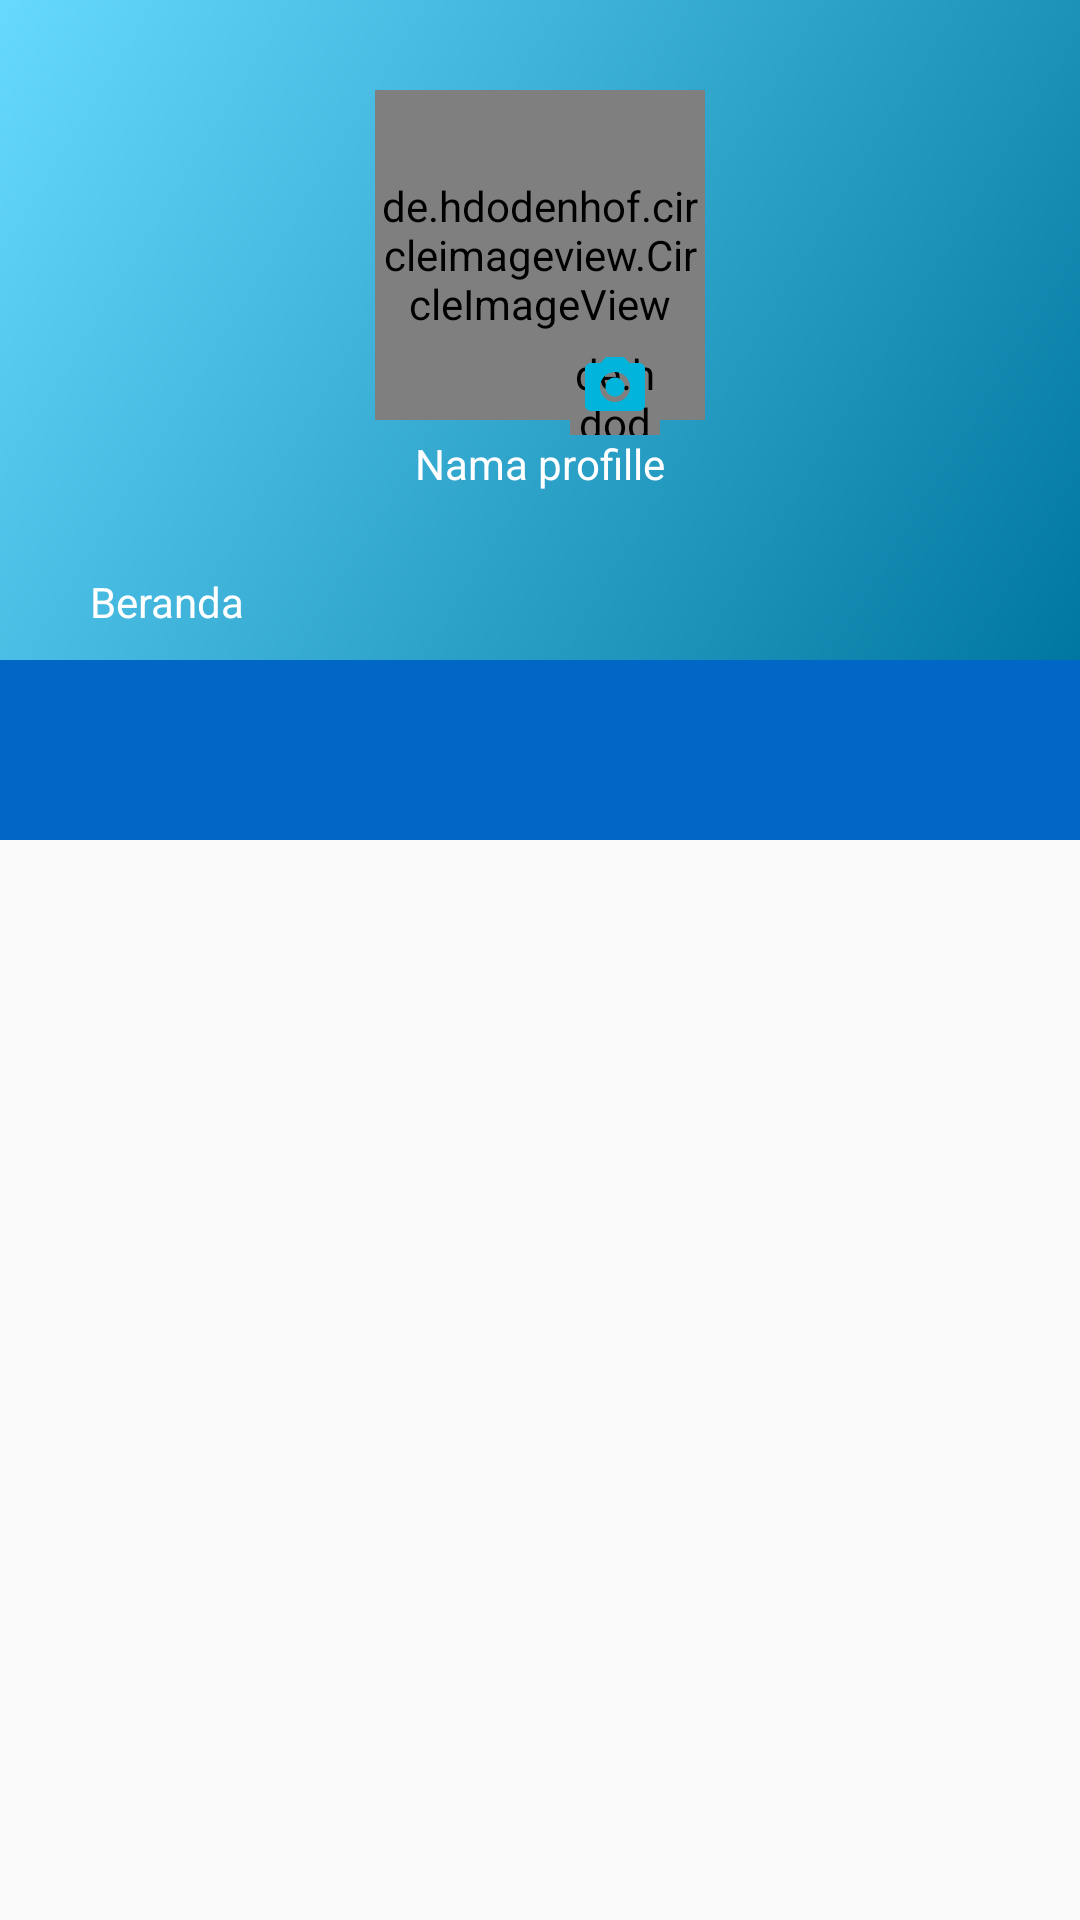

Icon click points for this 1080*1920 phone screenshot, format (x,y):
photo camera: (615,390)
